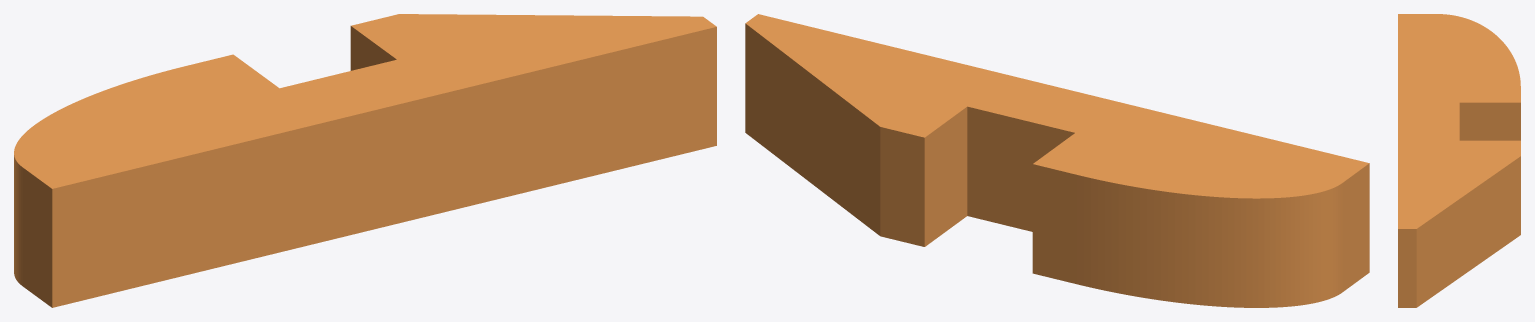
Rendered from WEST_REAR_SPACER_LONGITUDINAL_LINGGONG_trial.glb.
3 renders of one model, left to right at view 1: azimuth 30°, elevation 25°; view 2: azimuth 150°, elevation 25°; view 3: azimuth 270°, elevation 25°, orthographic. The views are drawn at different scales.
Visible parts, largest first — view 1: geometry_0; view 2: geometry_0; view 3: geometry_0.
Part boxes in pixels (<box>): geometry_0: <box>14,14,716,307</box>; geometry_0: <box>745,14,1369,307</box>; geometry_0: <box>1398,14,1520,307</box>.
Bounding box in the file's own units: 0.9 × 0.154 × 0.217.
